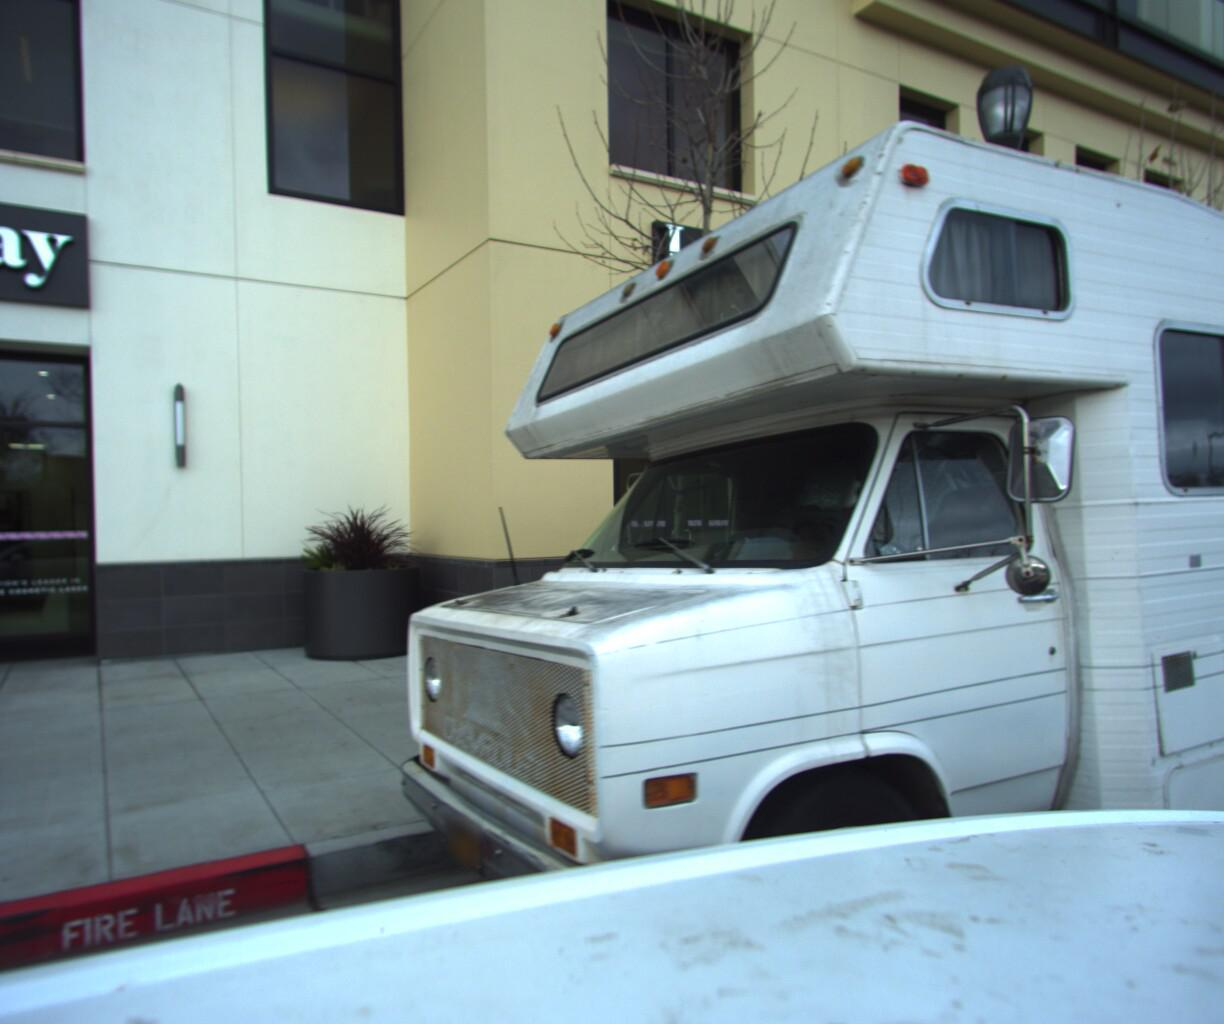other_vehicle: (315, 0, 1224, 1024)
